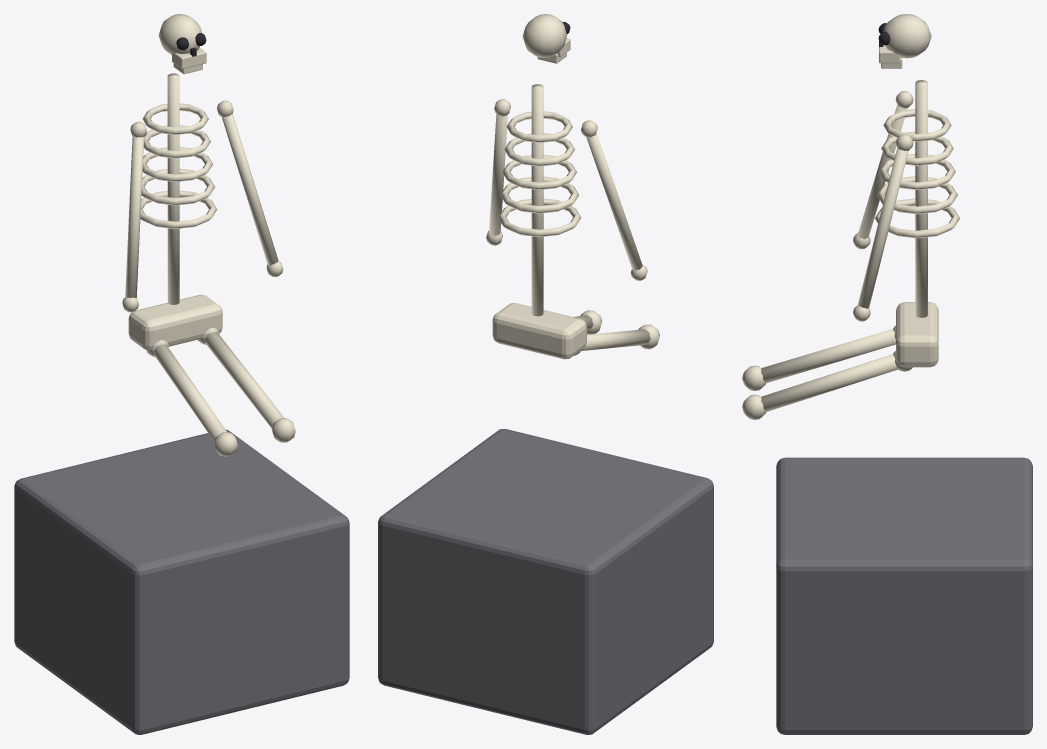
File: hanging_remains_skeleton_seated.glb
3 renders of one model, left to right at view 1: azimuth 30°, elevation 25°; view 2: azimuth 150°, elevation 25°; view 3: azimuth 270°, elevation 25°, orthographic. The views are drawn at different scales.
Parts seen in each view (by area): view 1: GD_hanging_remains_skeleton_seated__m0, GD_hanging_remains_skeleton_seated__m1; view 2: GD_hanging_remains_skeleton_seated__m0, GD_hanging_remains_skeleton_seated__m1; view 3: GD_hanging_remains_skeleton_seated__m0, GD_hanging_remains_skeleton_seated__m1.
Boxes of the visible parts, x1,y1,x2,y2 form: GD_hanging_remains_skeleton_seated__m0: (14, 429, 349, 734); GD_hanging_remains_skeleton_seated__m1: (122, 14, 295, 456); GD_hanging_remains_skeleton_seated__m0: (378, 429, 713, 734); GD_hanging_remains_skeleton_seated__m1: (486, 14, 659, 359); GD_hanging_remains_skeleton_seated__m0: (776, 457, 1032, 734); GD_hanging_remains_skeleton_seated__m1: (742, 14, 959, 419).
Size of the model in its own units: 0.6 by 1.72 by 0.68.
